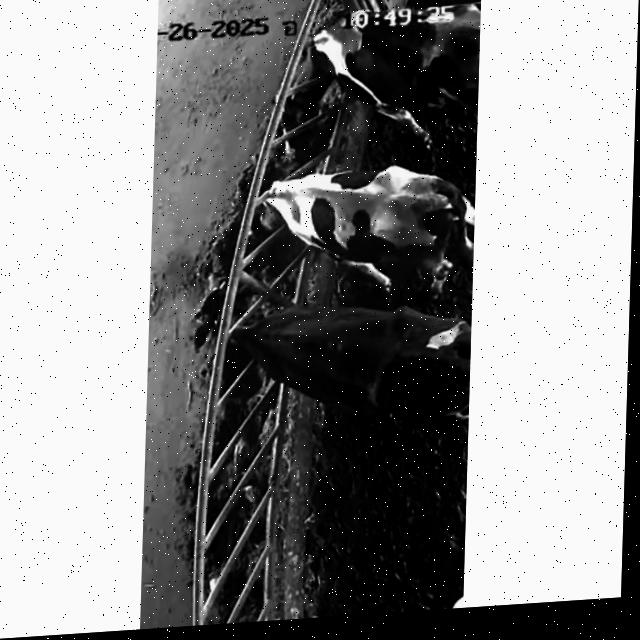eat: (169, 262, 355, 397), (198, 142, 375, 261)
